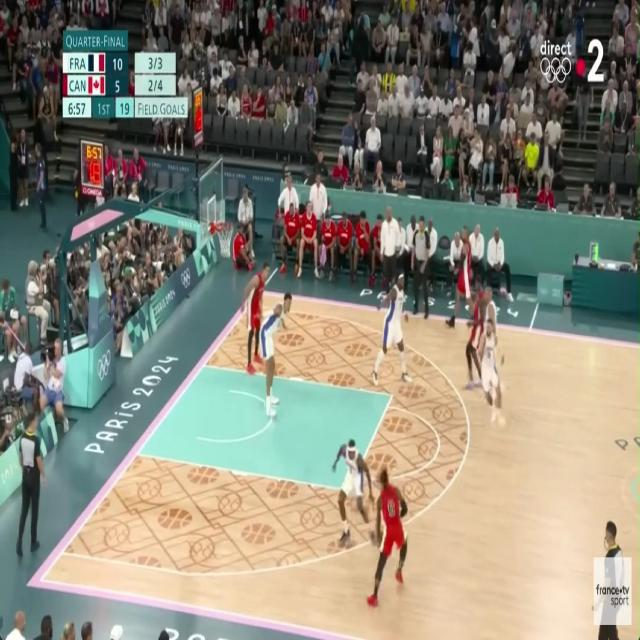ball_handler: (366, 465, 408, 609)
